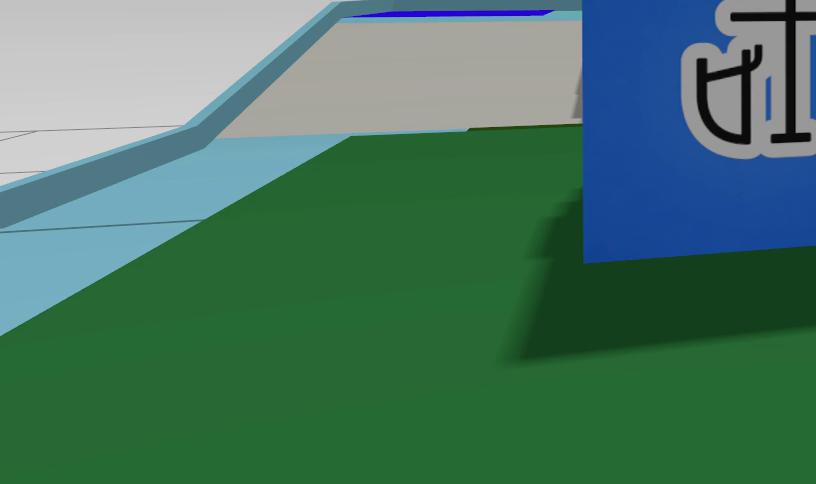KFS_REAL: (581, 0, 816, 261), (682, 0, 816, 158)
